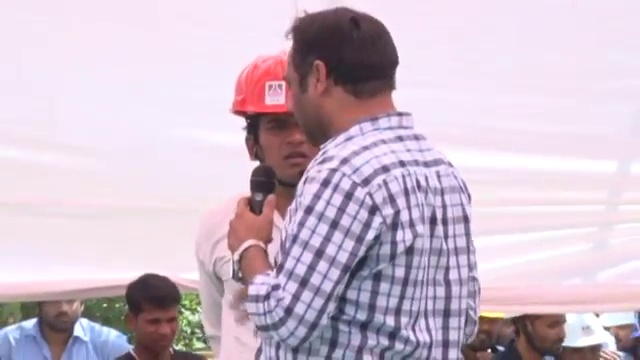helmet: (232, 53, 301, 117), (560, 312, 607, 349), (602, 307, 638, 333)
helmet_off: (280, 4, 402, 146), (118, 273, 186, 360), (505, 314, 567, 357), (28, 299, 84, 334), (463, 311, 503, 359)
helmet_on: (231, 51, 319, 195), (558, 311, 606, 360), (603, 313, 639, 360)
person: (224, 6, 476, 360), (196, 52, 321, 360), (0, 291, 129, 359)
